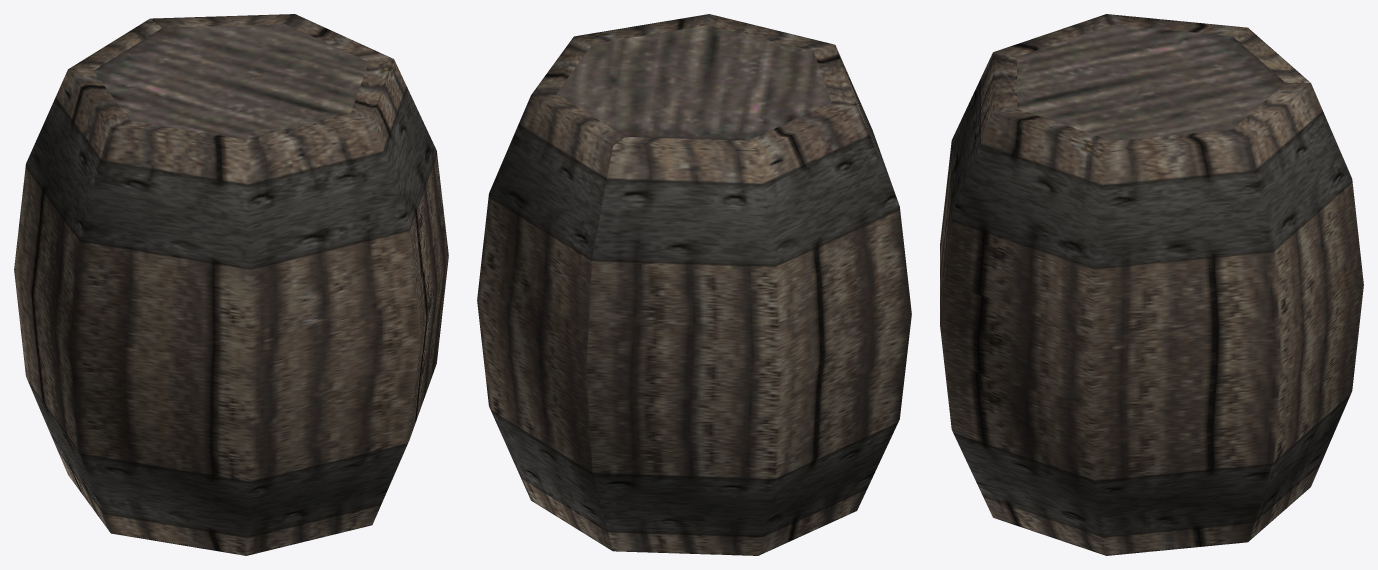
File: Barrel.fbx
3 views of the same model, side by side, from view 1: azimuth 30°, elevation 25°; view 2: azimuth 150°, elevation 25°; view 3: azimuth 270°, elevation 25° (orthographic).
Parts seen in each view (by area): view 1: Barrel; view 2: Barrel; view 3: Barrel.
Boxes of the visible parts, x1,y1,x2,y2 form: Barrel: (14,14,448,555); Barrel: (477,14,911,555); Barrel: (940,14,1363,555).
Bounding box in the file's own units: 97.49 × 100 × 95.05.
Materials: 1 (1 with a texture image).
